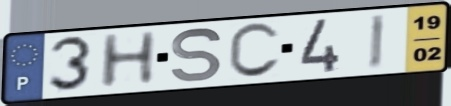3: (43, 34, 100, 95)
4: (298, 17, 342, 75)
C: (225, 21, 283, 82)
H: (96, 29, 160, 91)
I: (366, 12, 388, 72)
S: (169, 26, 225, 85)
